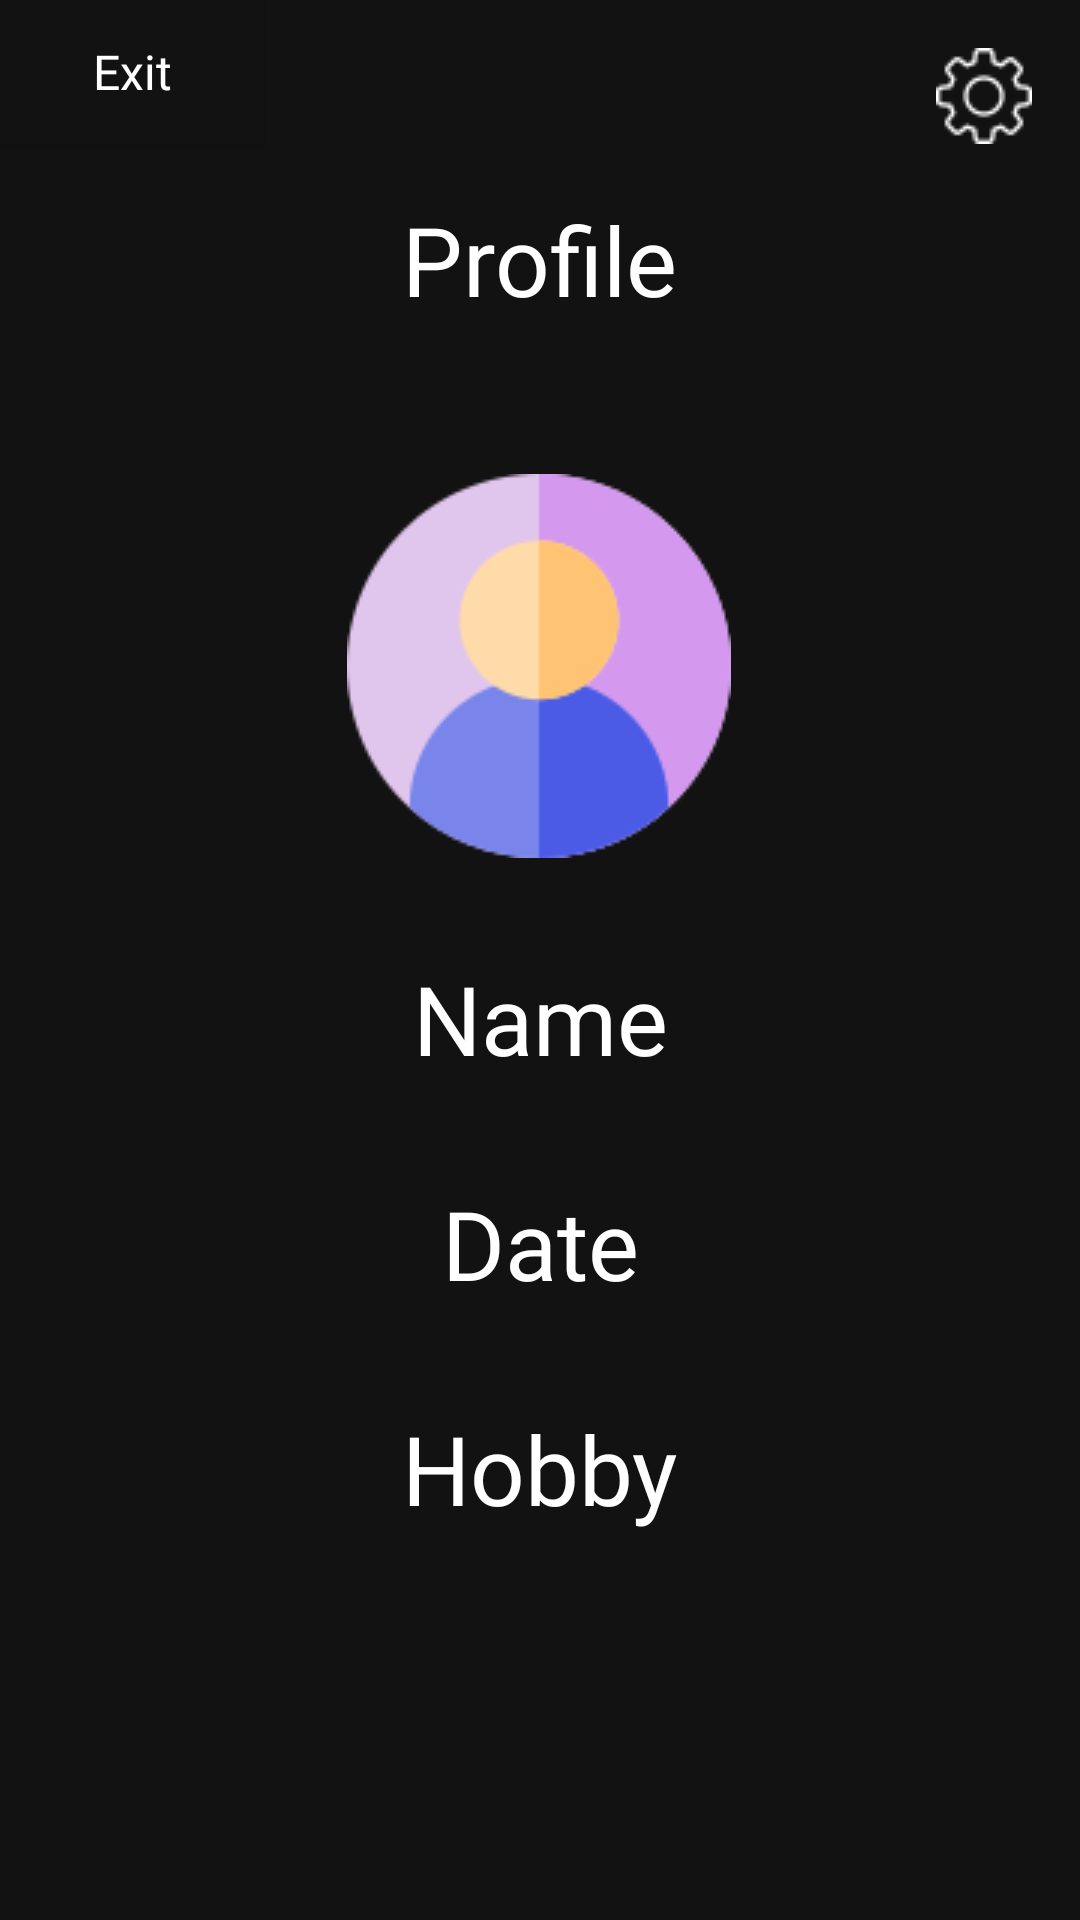

Icons on this 1080w x 1920h Android screen, each with its box as [x1,y1,x2,y2]:
settings: [936,48,1032,144]
